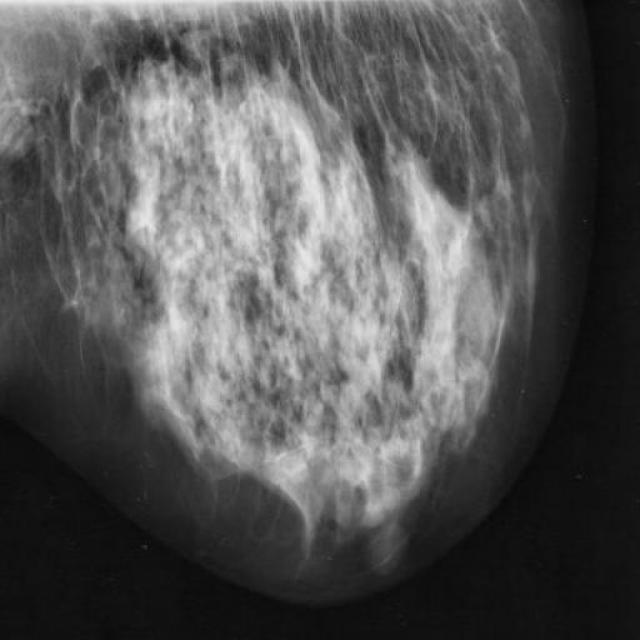cancer: (300, 275, 352, 359)
